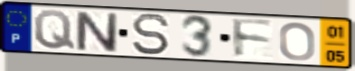3: (179, 12, 214, 61)
F: (230, 17, 276, 61)
N: (73, 9, 120, 54)
O: (278, 21, 318, 63)
Q: (32, 8, 77, 51)
S: (130, 12, 172, 57)
